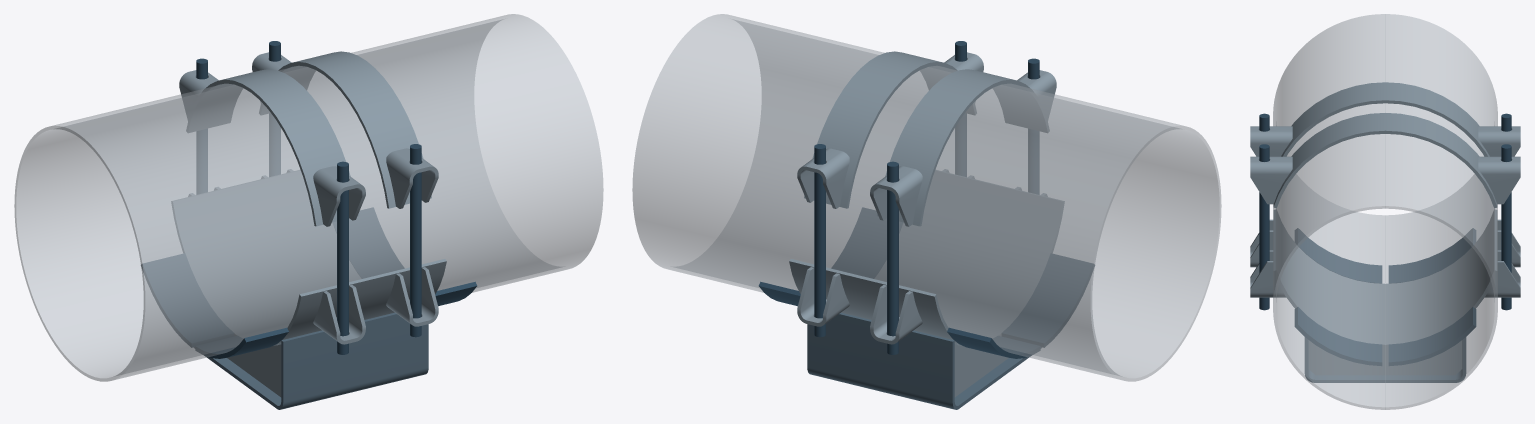
File: TS-671.00.00-06-opora-dn530-H100.glb
3 views of the same model, side by side, from view 1: azimuth 30°, elevation 25°; view 2: azimuth 150°, elevation 25°; view 3: azimuth 270°, elevation 25° (orthographic). The views are drawn at different scales.
Parts seen in each view (by area): view 1: truba, podushka_0, skoba_1, bugel_podushka_-1_0, bugel_podushka_1_0, upor_-1_1, upor_1_1, shpilka_1_-1, shpilka_-1_-1, bugel_ushko_1_2, bugel_ushko_-1_2, ushko_6 (+7 smaller); view 2: truba, podushka_0, skoba_1, bugel_podushka_-1_0, bugel_podushka_1_0, upor_-1_-1, upor_1_-1, shpilka_1_1, shpilka_-1_1, bugel_ushko_1_1, bugel_ushko_-1_1, ushko_5 (+7 smaller); view 3: truba, podushka_0, bugel_podushka_1_0, bugel_podushka_-1_0, rebro_4, upor_1_1, upor_1_-1, skoba_1, upor_-1_1, upor_-1_-1, bugel_ushko_1_1, bugel_ushko_1_2 (+8 smaller).
Part boxes in pixels (x1,y1,x2,y2): truba: (14, 14, 603, 381); podushka_0: (171, 170, 446, 345); skoba_1: (194, 312, 428, 409); bugel_podushka_-1_0: (186, 69, 358, 226); bugel_podushka_1_0: (259, 51, 431, 208); upor_-1_1: (141, 253, 233, 347); upor_1_1: (333, 208, 403, 278); shpilka_1_-1: (410, 144, 421, 337); shpilka_-1_-1: (337, 161, 348, 354); bugel_ushko_1_2: (386, 148, 438, 208); bugel_ushko_-1_2: (313, 166, 365, 226); ushko_6: (386, 267, 438, 326); truba: (632, 14, 1221, 381); podushka_0: (789, 170, 1064, 345); skoba_1: (807, 312, 1041, 409); bugel_podushka_-1_0: (877, 69, 1049, 226); bugel_podushka_1_0: (804, 51, 976, 208); upor_-1_-1: (1002, 253, 1094, 347); upor_1_-1: (832, 208, 902, 278); shpilka_1_1: (814, 144, 825, 337); shpilka_-1_1: (887, 161, 898, 354); bugel_ushko_1_1: (797, 148, 849, 208); bugel_ushko_-1_1: (870, 166, 922, 226); ushko_5: (797, 267, 849, 326); truba: (1273, 14, 1497, 409); podushka_0: (1273, 209, 1497, 347); bugel_podushka_1_0: (1273, 113, 1497, 208); bugel_podushka_-1_0: (1281, 82, 1489, 156); rebro_4: (1308, 340, 1462, 375); upor_1_1: (1388, 307, 1476, 365); upor_1_-1: (1294, 307, 1382, 365); skoba_1: (1304, 337, 1466, 382); upor_-1_1: (1388, 228, 1475, 283); upor_-1_-1: (1295, 228, 1382, 283); bugel_ushko_1_1: (1478, 156, 1520, 204); bugel_ushko_1_2: (1250, 156, 1292, 204).
Bounding box in the file's own units: 1070 × 639 × 637.
